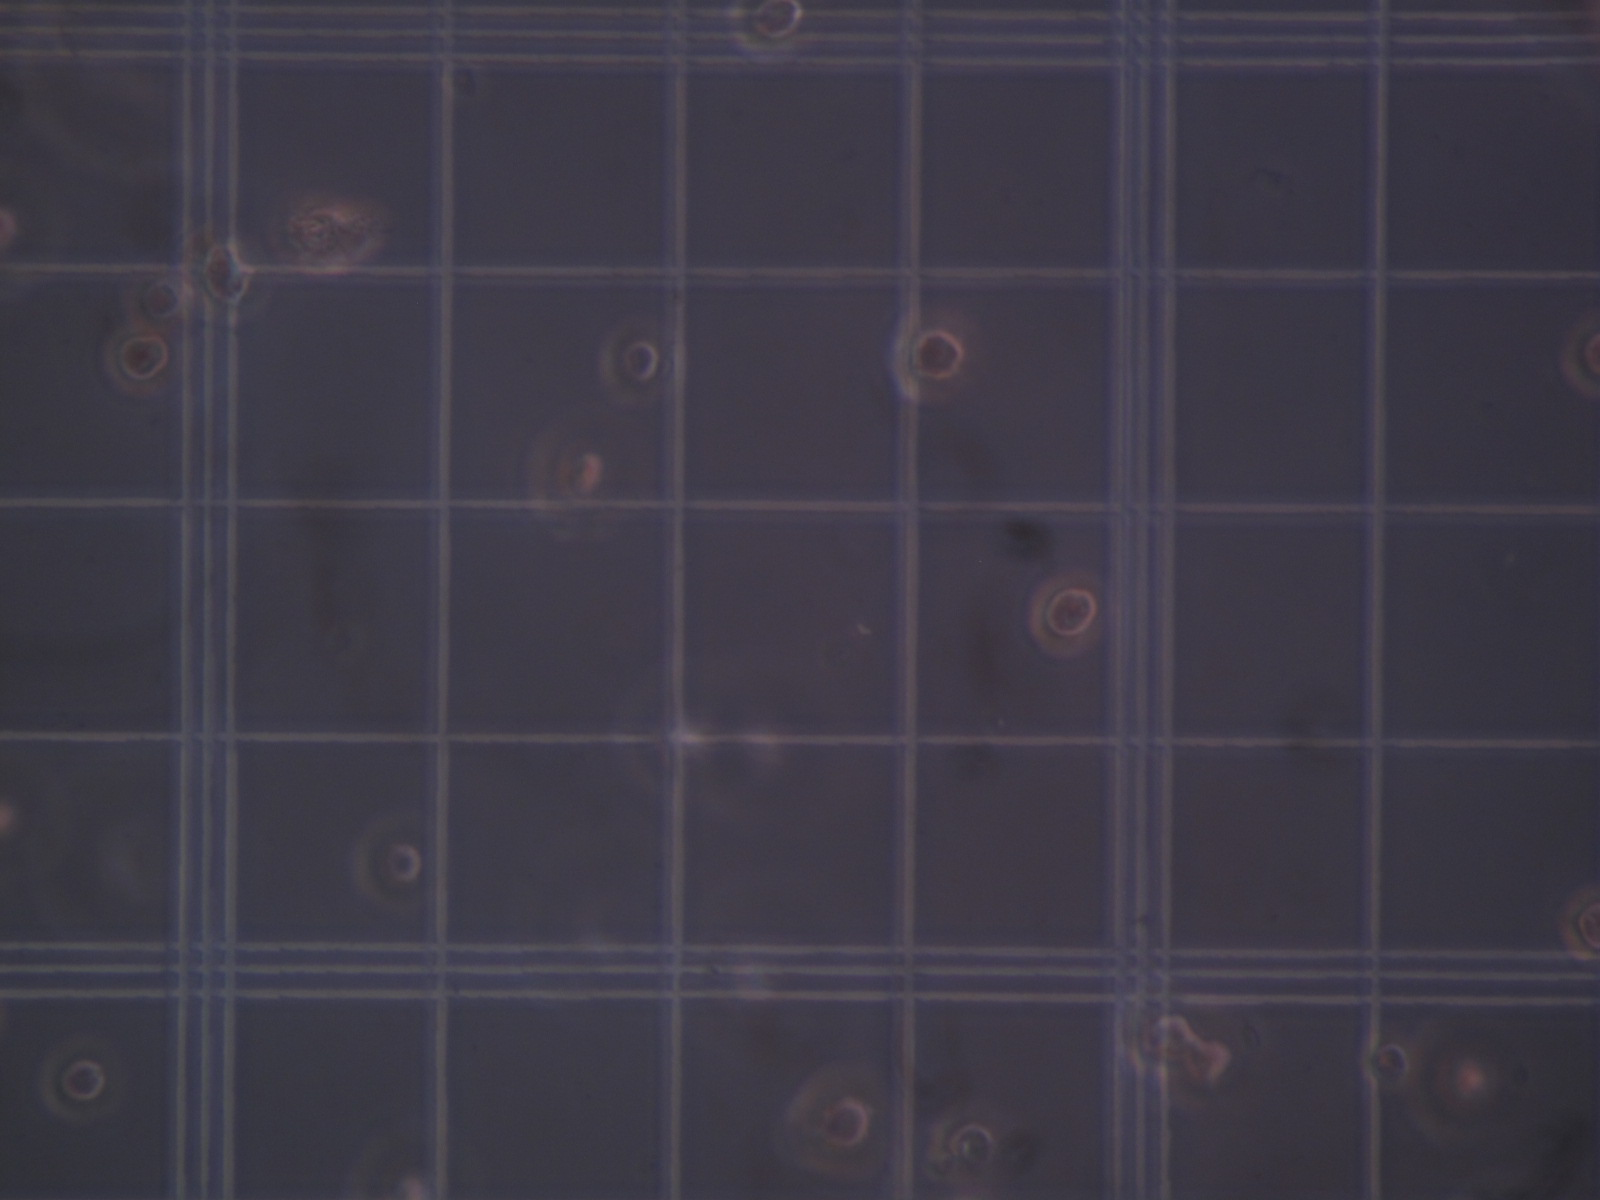hemo: (785, 1063, 893, 1179), (889, 308, 979, 403), (38, 1034, 123, 1124), (178, 229, 260, 324), (353, 814, 426, 914), (1028, 571, 1107, 655), (930, 1102, 1012, 1182), (597, 320, 668, 406), (102, 325, 175, 397), (727, 1, 808, 57), (126, 274, 190, 333), (1361, 1031, 1417, 1092), (1558, 316, 1600, 397), (1558, 887, 1600, 962), (1, 198, 16, 261)
